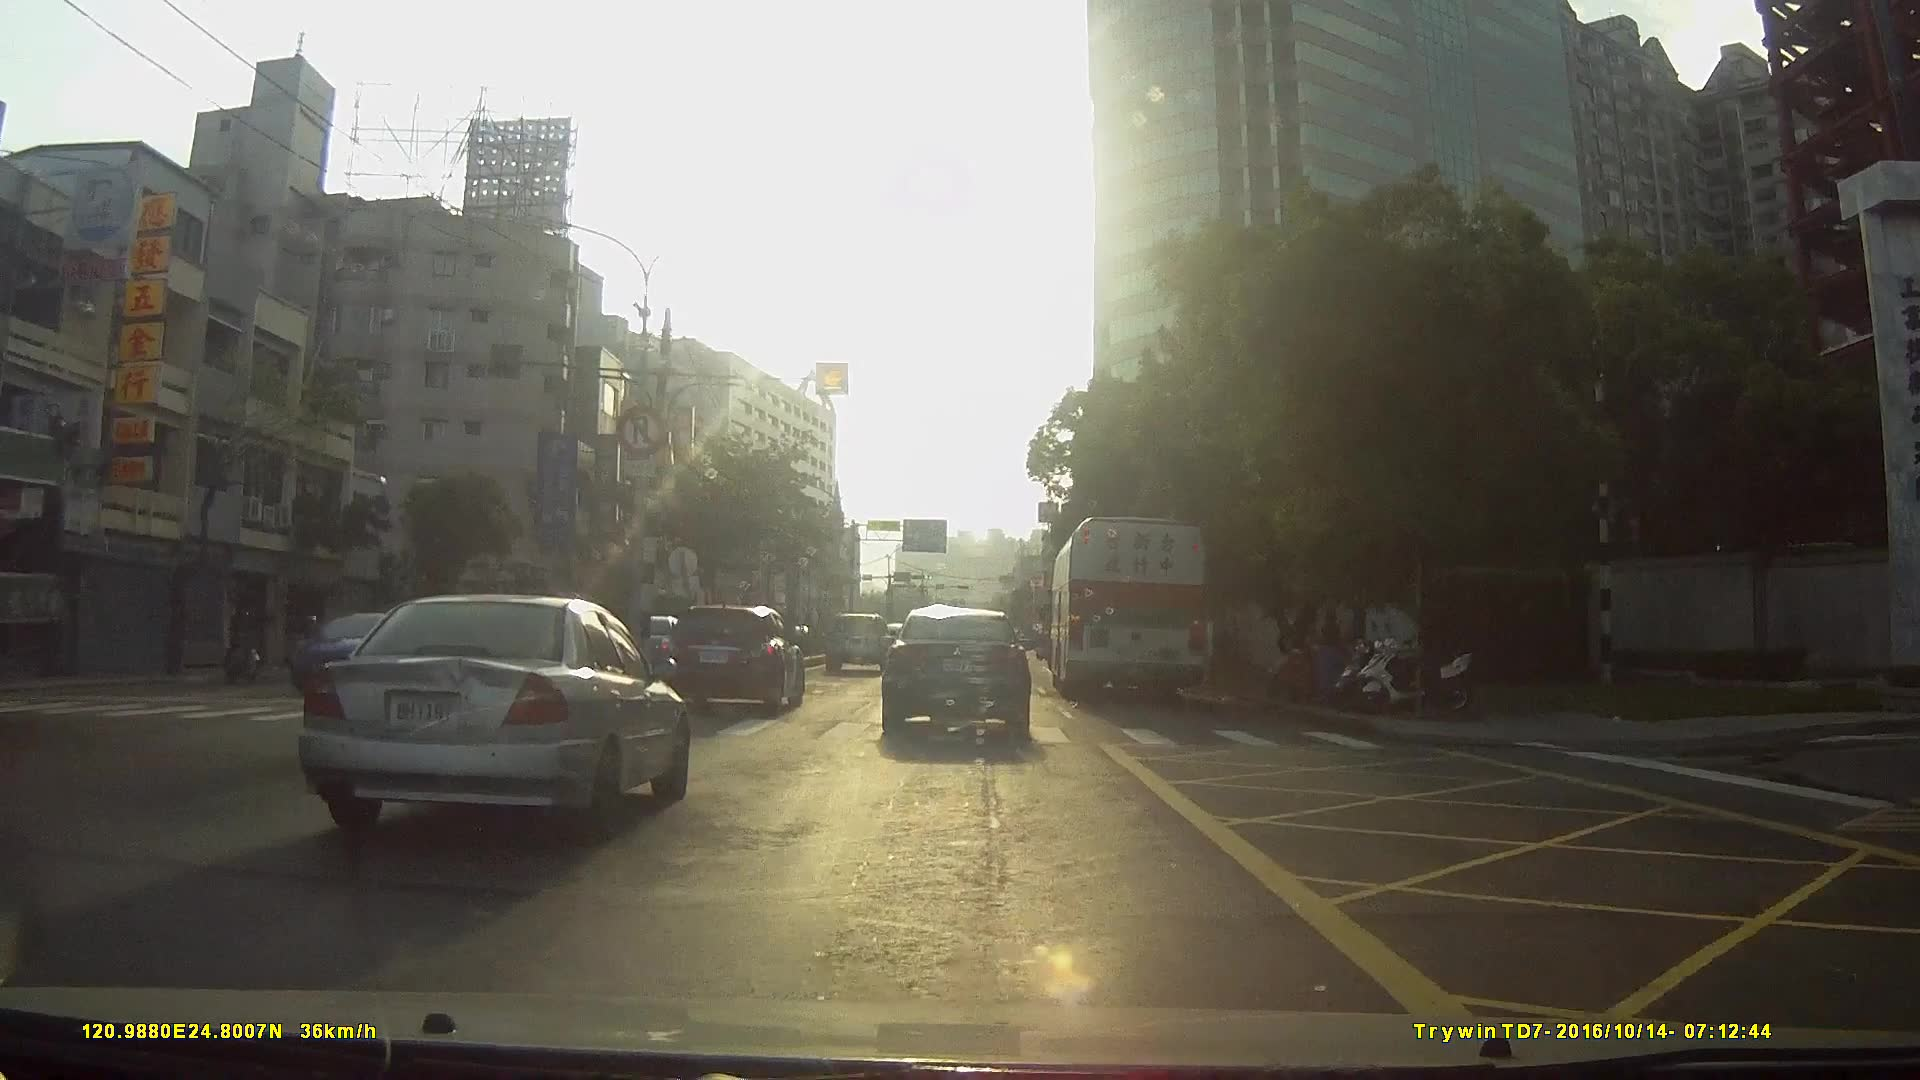rider: (225, 609, 267, 681)
vehicle: (289, 590, 688, 839), (1049, 511, 1211, 708), (881, 606, 1034, 745), (664, 604, 809, 717), (285, 606, 427, 711), (823, 613, 894, 678)
